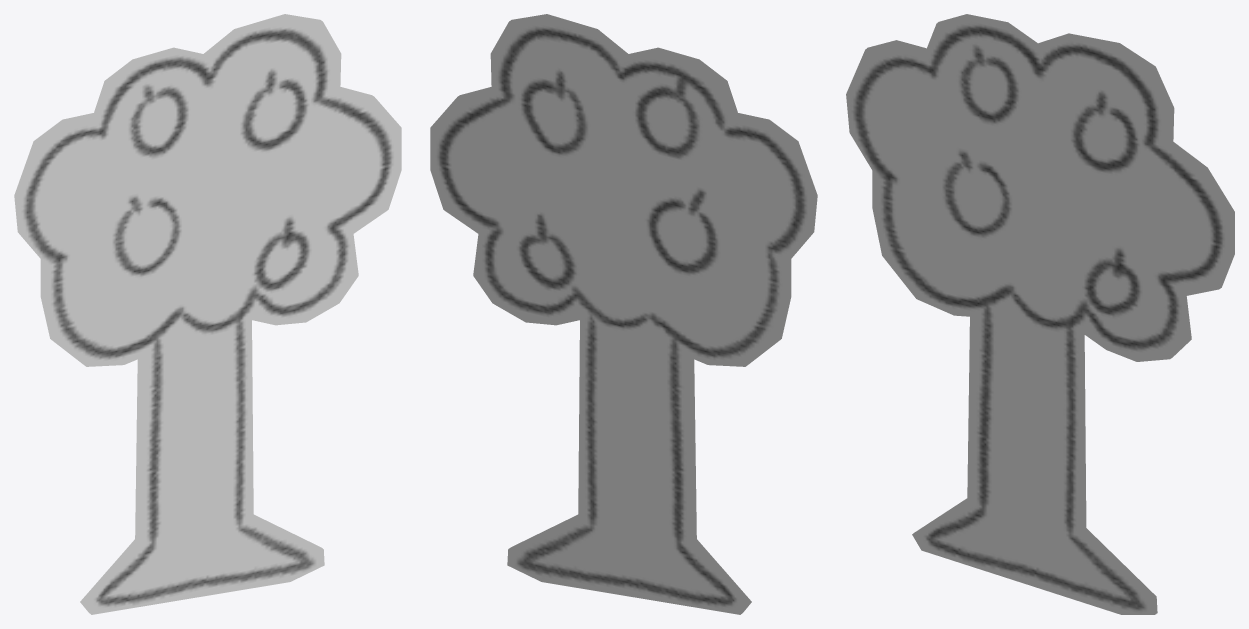
File: AppleTree.fbx
3 views of the same model, side by side, from view 1: azimuth 30°, elevation 25°; view 2: azimuth 150°, elevation 25°; view 3: azimuth 330°, elevation 25° (orthographic).
Visible parts, largest first — view 1: AppleTree4, AppleTree3, AppleTree2, AppleTree1; view 2: AppleTree1, AppleTree4, AppleTree3, AppleTree2; view 3: AppleTree4, AppleTree3, AppleTree2, AppleTree1.
Boxes of the visible parts, x1,y1,x2,y2 form: AppleTree4: (16,15,401,614); AppleTree3: (15,15,373,613); AppleTree2: (14,14,372,613); AppleTree1: (14,14,371,609); AppleTree1: (430,15,815,614); AppleTree4: (459,14,817,612); AppleTree3: (458,14,816,613); AppleTree2: (458,15,815,613); AppleTree4: (846,15,1232,614); AppleTree3: (866,15,1233,614); AppleTree2: (867,14,1234,613); AppleTree1: (867,14,1234,613).
Bounding box in the file's own units: 55.47 × 78.03 × 0.5361.
1 material, 1 textured.
